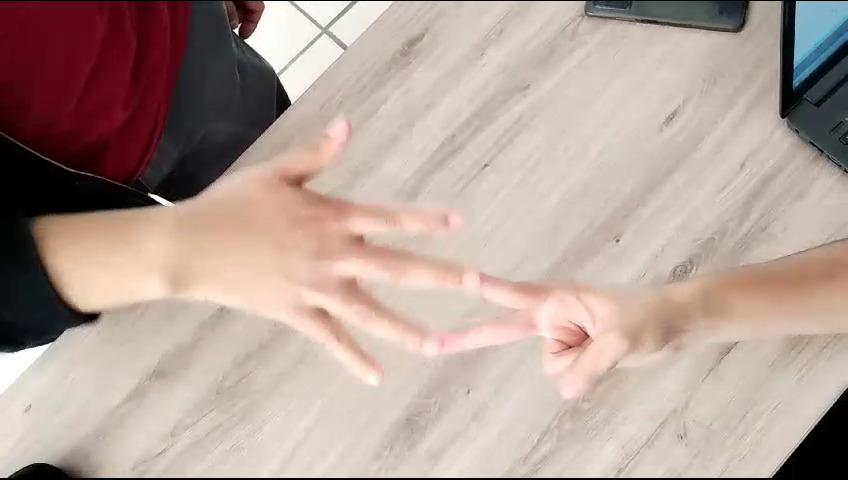Paper: (164, 104, 485, 398)
Scissor: (431, 258, 714, 417)
